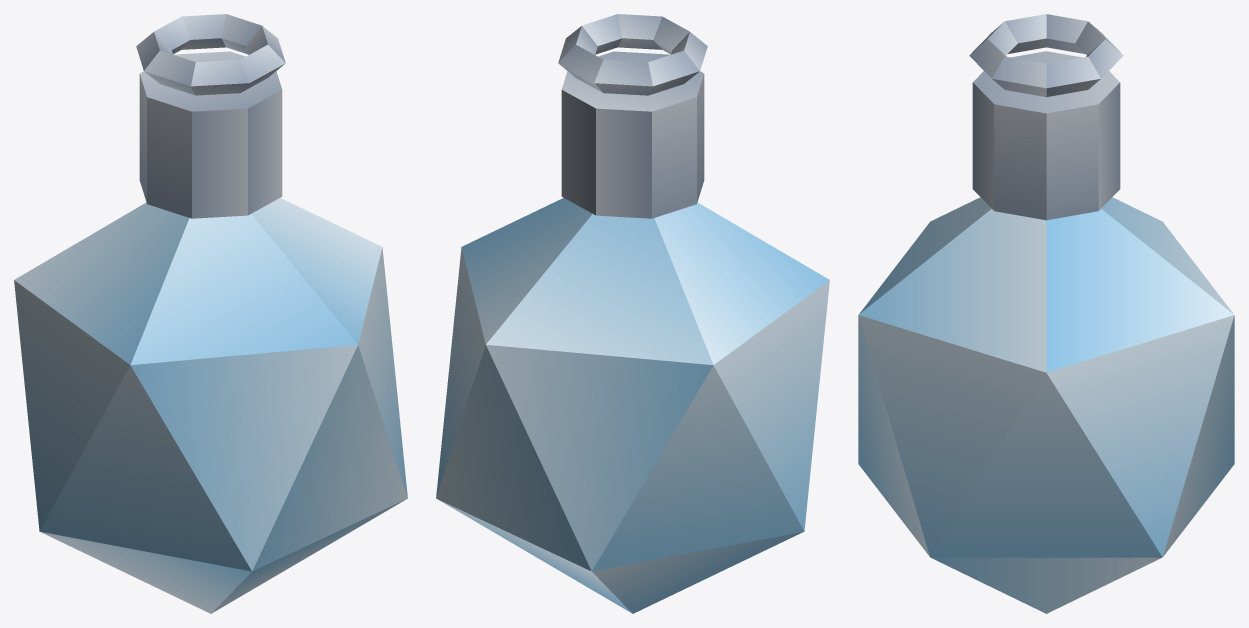
The model's file is bauble.fbx.
3 renders of one model, left to right at view 1: azimuth 30°, elevation 25°; view 2: azimuth 150°, elevation 25°; view 3: azimuth 270°, elevation 25°, orthographic.
Visible parts, largest first — view 1: bauble; view 2: bauble; view 3: bauble.
Boxes of the visible parts, <box> form: bauble: <box>14,14,407,613</box>; bauble: <box>436,14,829,613</box>; bauble: <box>858,14,1234,613</box>.
Bounding box in the file's own units: 49.86 × 80 × 47.42.
